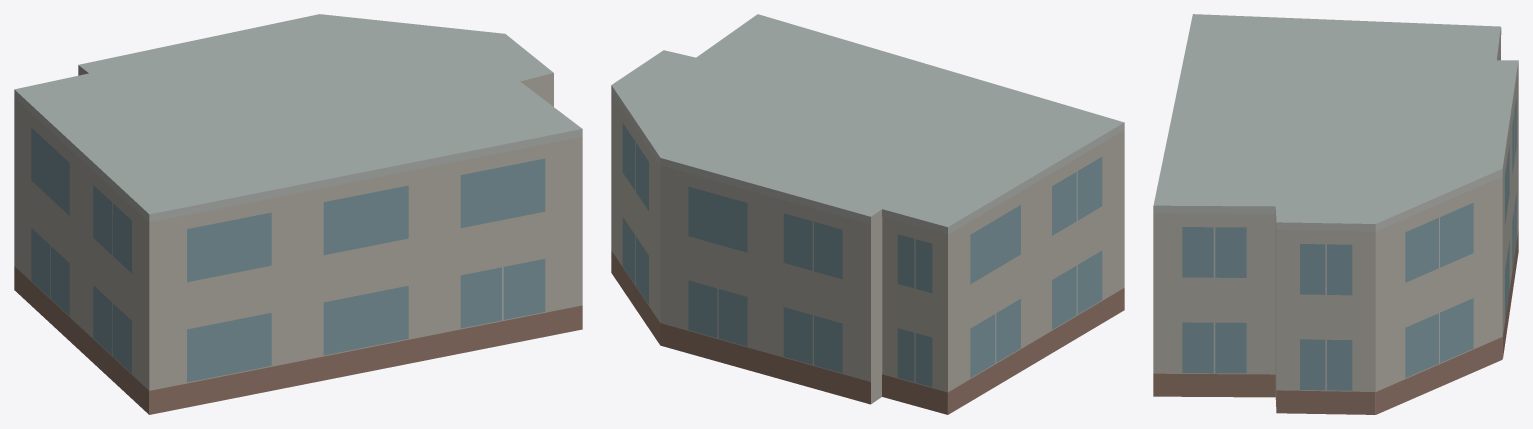
File: survey-upis-32758314.glb
3 views of the same model, side by side, from view 1: azimuth 30°, elevation 25°; view 2: azimuth 150°, elevation 25°; view 3: azimuth 270°, elevation 25° (orthographic). The views are drawn at different scales.
Visible parts, largest first — view 1: survey-upis-32758314.tmp; view 2: survey-upis-32758314.tmp; view 3: survey-upis-32758314.tmp.
Part boxes in pixels (x1,y1,x2,y2): survey-upis-32758314.tmp: (14,14,582,414); survey-upis-32758314.tmp: (611,14,1124,414); survey-upis-32758314.tmp: (1153,14,1518,414).
Size of the model in its own units: 14.41 by 6.1 by 10.59.
